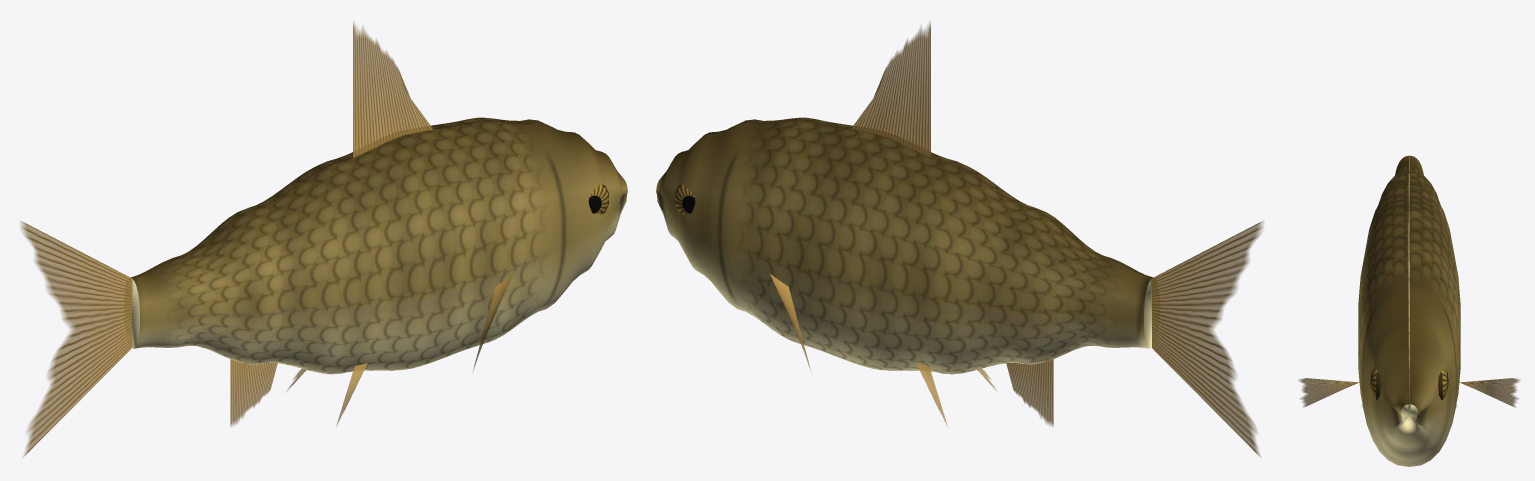
File: karas.glb
The picture shows the model from 3 angles, left to right: view 1: azimuth 30°, elevation 25°; view 2: azimuth 150°, elevation 25°; view 3: azimuth 270°, elevation 25°; orthographic projection. The views are drawn at different scales.
Visible parts, largest first — view 1: karas; view 2: karas; view 3: karas.
Boxes of the visible parts, bbox=[...] form: karas: bbox=[20, 21, 627, 456]; karas: bbox=[656, 21, 1263, 456]; karas: bbox=[1298, 155, 1520, 466].
Bounding box in the file's own units: 0.372 × 0.2274 × 0.1229.
1 material, 1 textured.
